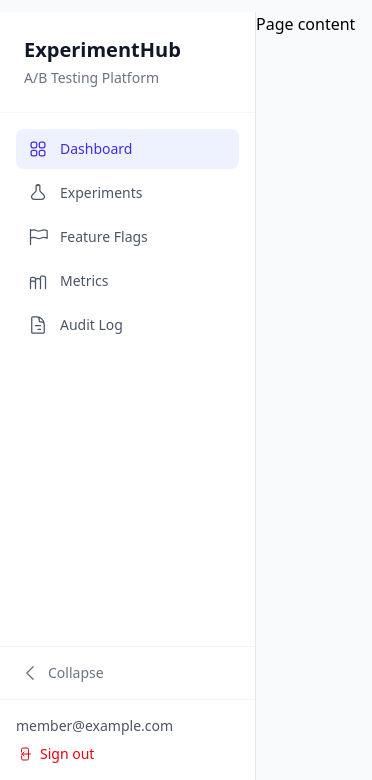
Test case: Layout — collapsible sidebar › collapses the sidebar, hides nav labels, and persists the choice to localStorage
The image size is (372, 780).
Step 1. Click the button with aria-label "Collapse sidebar" → click(128, 673), box [8,655,247,691]
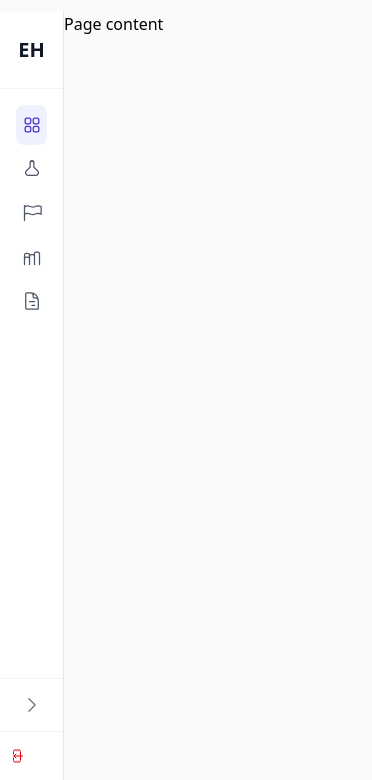
Check: the button named "Expand sidebar" is shown, box [8,687,55,723]
